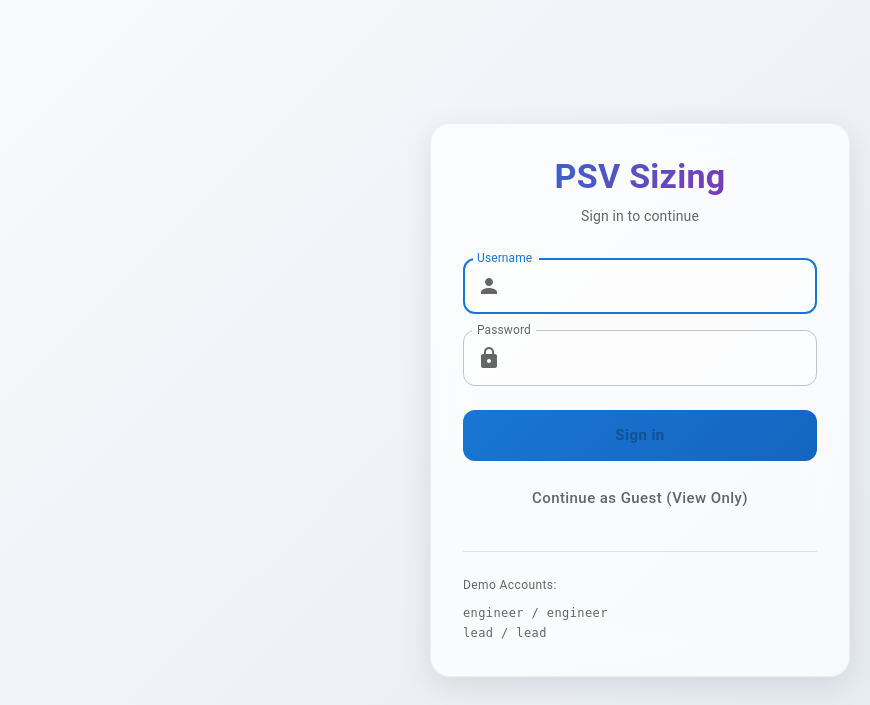
Test: LoginPage › disables form during loading
Type "user" into the field labelled "Username". click: [663, 286]
box: [509,258,817,314]
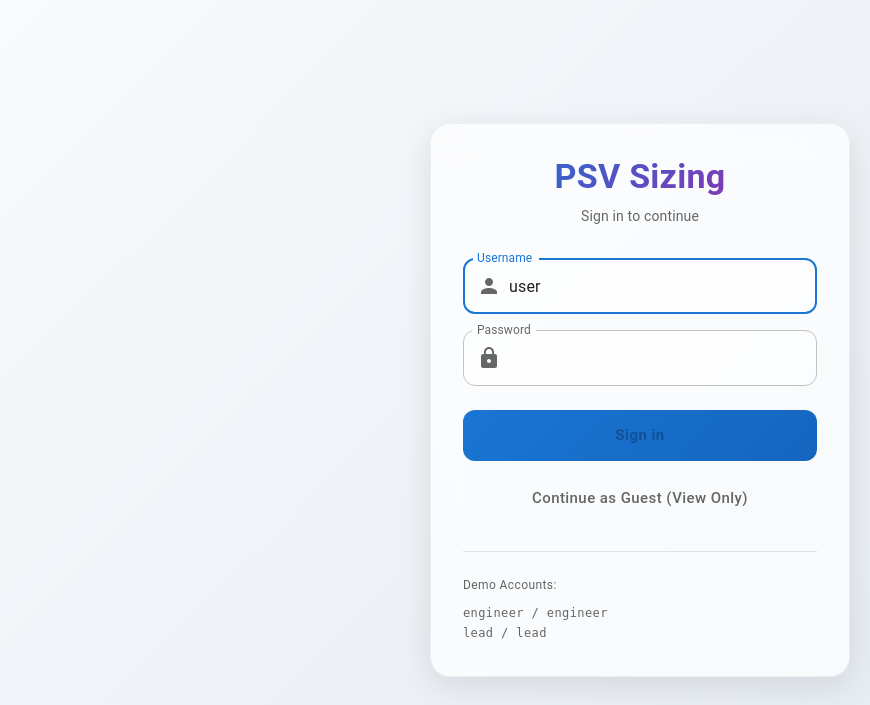
Type "pass" into the password field labelled "Password". click: [663, 358]
box: [509,330,817,386]
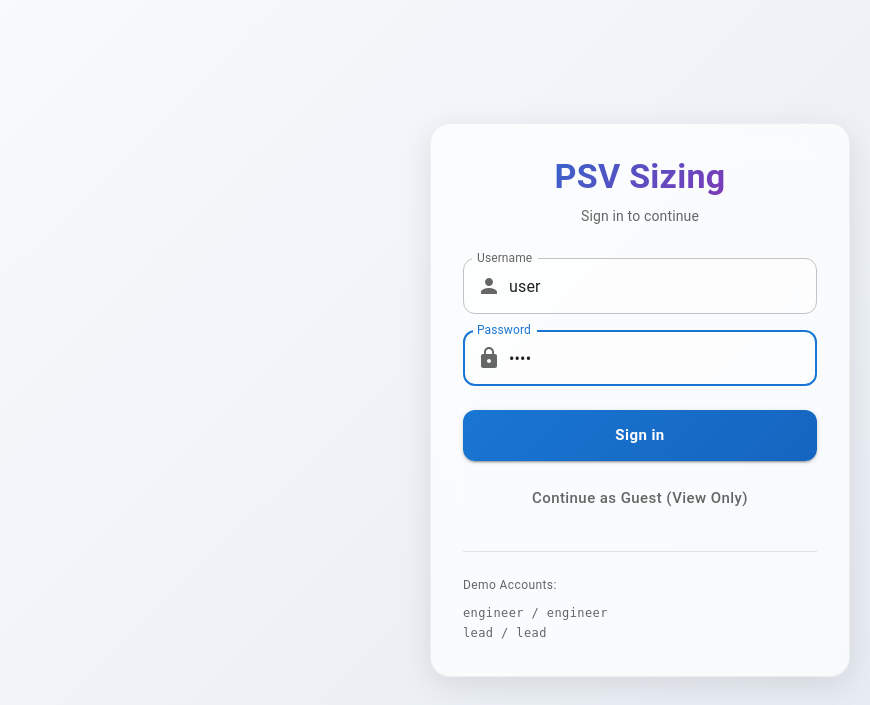
Click the button "Sign in". click: [640, 436]
box: [463,410,817,461]
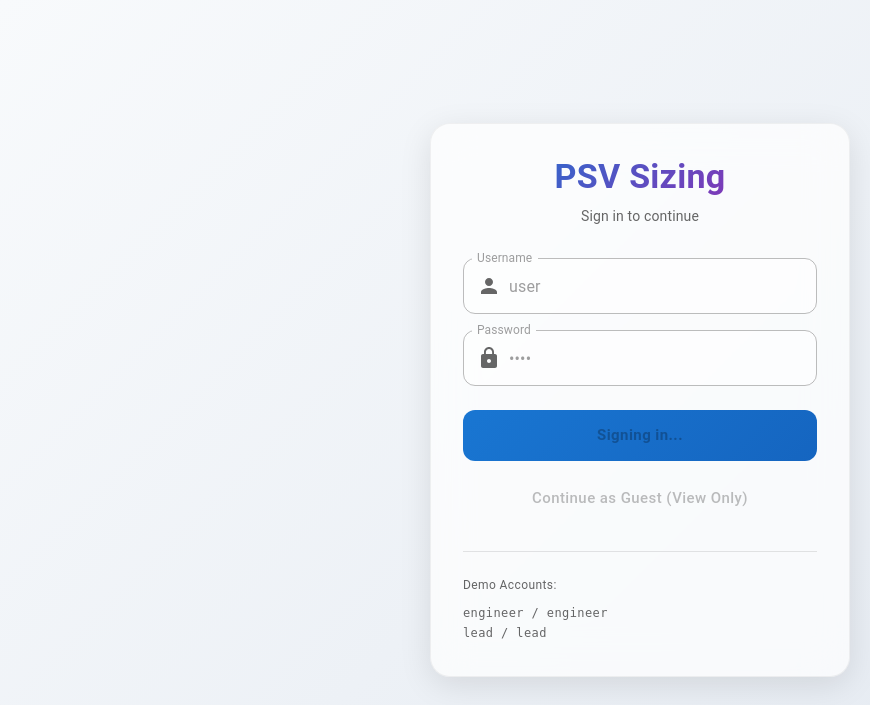
expect the button "Signing in..." is disabled: met, box [463,410,817,461]
expect the field labelled "Username" is disabled: met, box [509,258,817,314]
expect the password field labelled "Password" is disabled: met, box [509,330,817,386]
